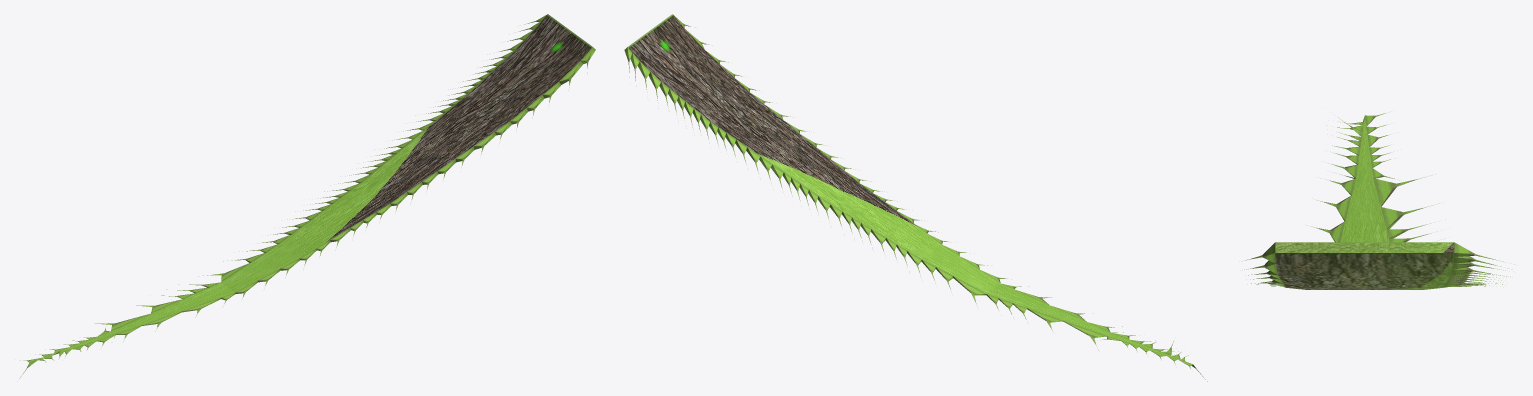
Rendered from ast_final.dae.
3 views of the same model, side by side, from view 1: azimuth 30°, elevation 25°; view 2: azimuth 150°, elevation 25°; view 3: azimuth 270°, elevation 25° (orthographic). The views are drawn at different scales.
Visible parts, largest first — view 1: ast; view 2: ast; view 3: ast.
Part boxes in pixels (x1,y1,x2,y2): ast: (19,14,595,378); ast: (624,14,1207,381); ast: (1244,113,1506,289).
Bounding box in the file's own units: 2.01 × 0.4405 × 0.7414.
Materials: 1 (1 with a texture image).
